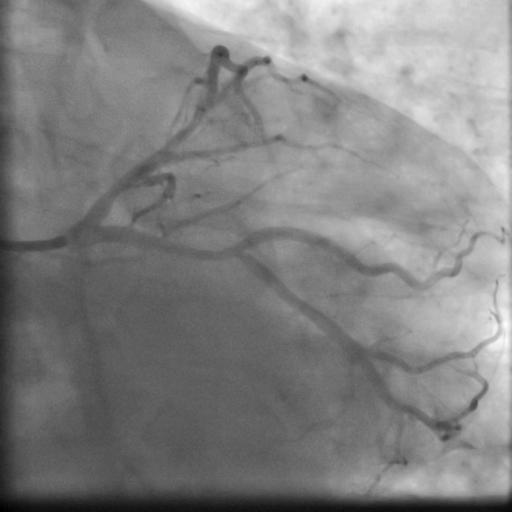Stenosis: (96, 172, 134, 201)
